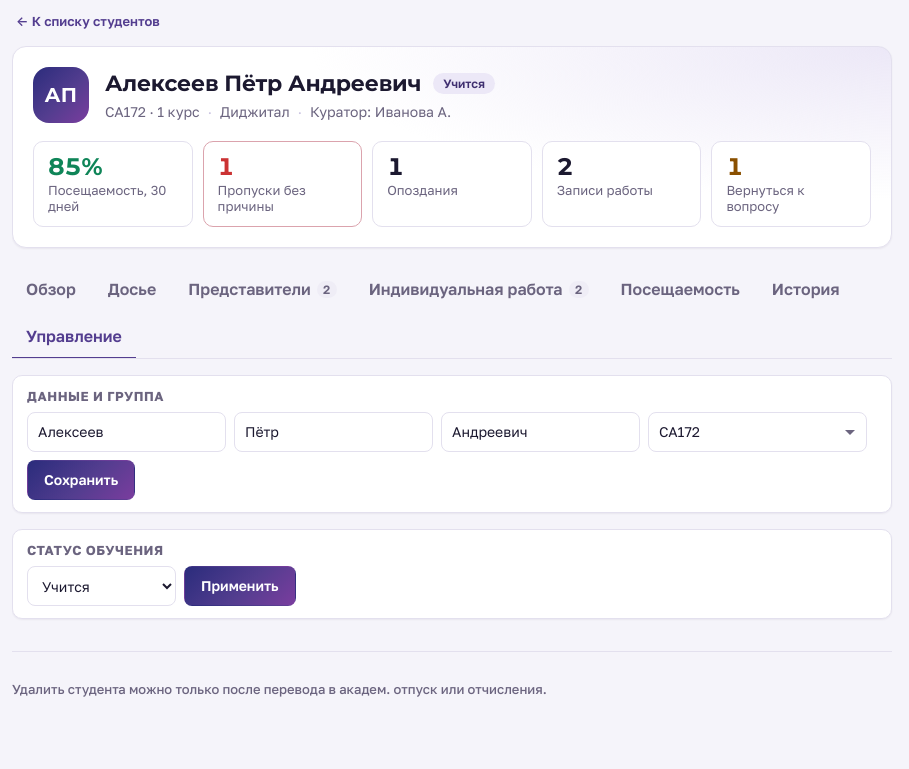
Scenario: StudentCardPage — управление › смена статуса: подтверждение, дата выбытия только для не «Учится»
Check: the button "Применить" is shown, box [184,566,296,606]
Check: the text "Дата выбытия" is not shown
Step 1. Select "Отчислен" in the dropdown named "Статус обучения" → (102, 586), box [27,566,176,606]
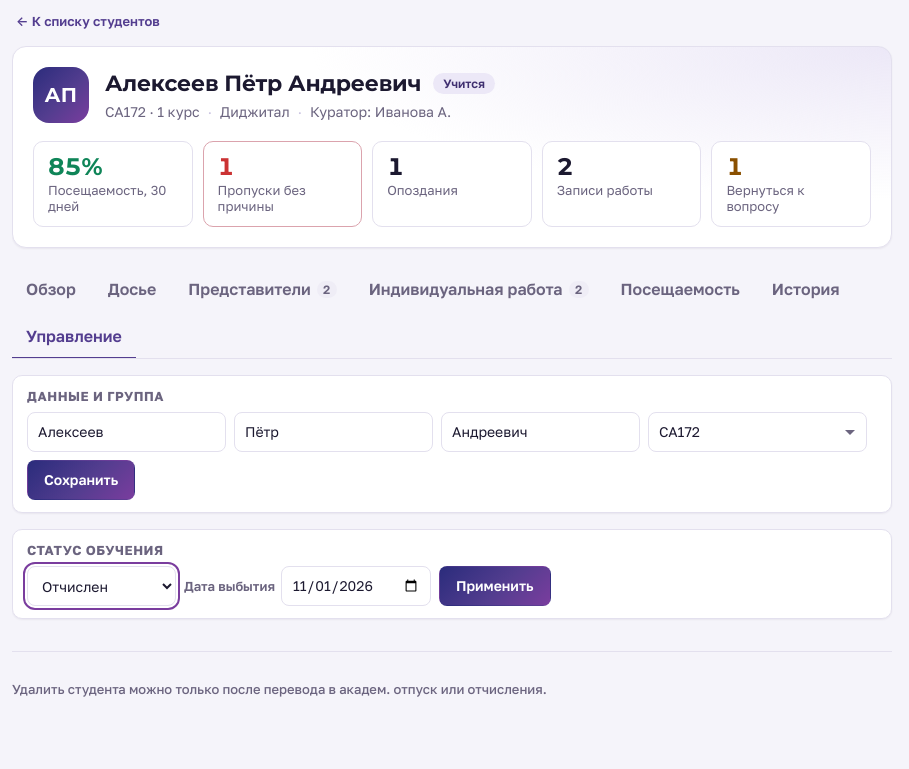
Check: the date field labelled "Дата выбытия" holds "2026-11-01", box [281,566,431,606]
Step 2. Click the button "Применить" → (495, 586), box [439,566,550,606]
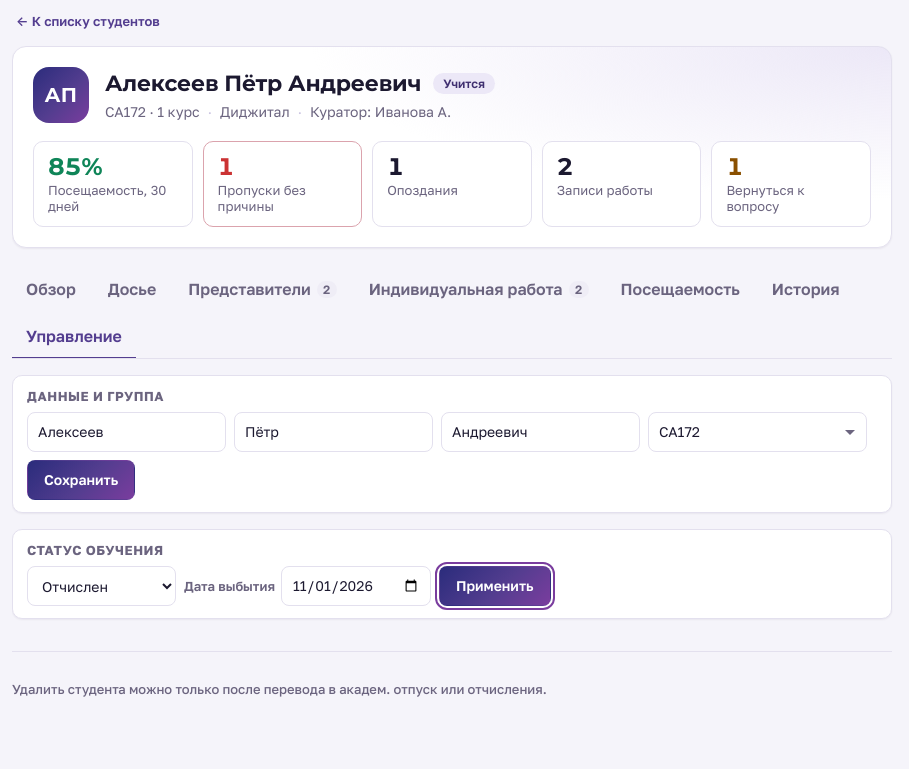
Step 3. Click the button "Применить" → (495, 586), box [439,566,550,606]
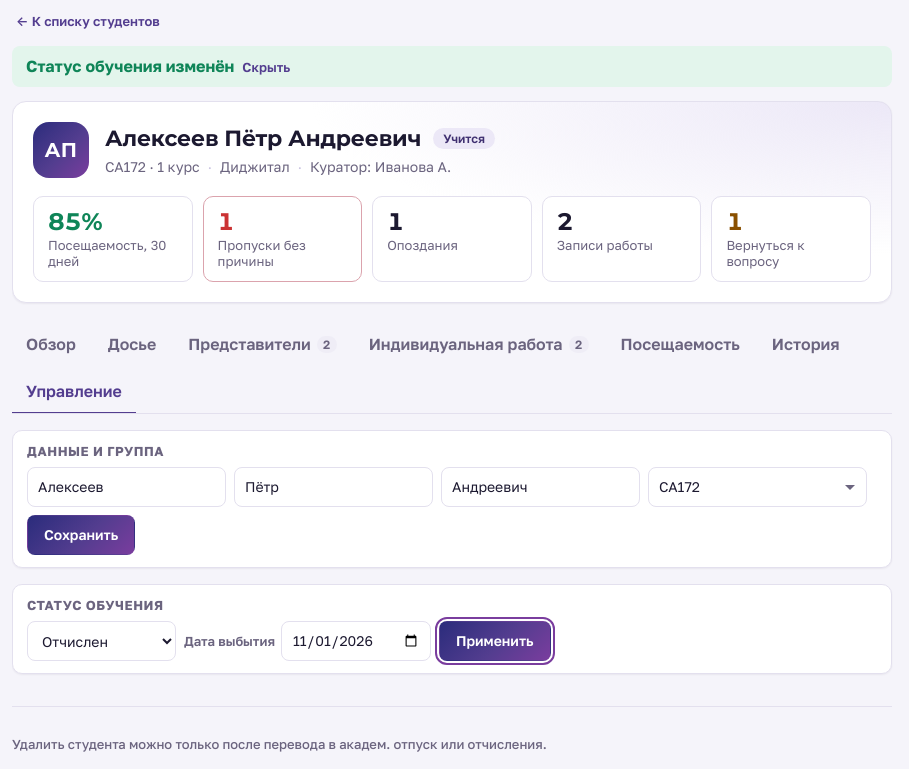
Check: the text "Статус обучения изменён" is shown, box [26,56,234,76]
